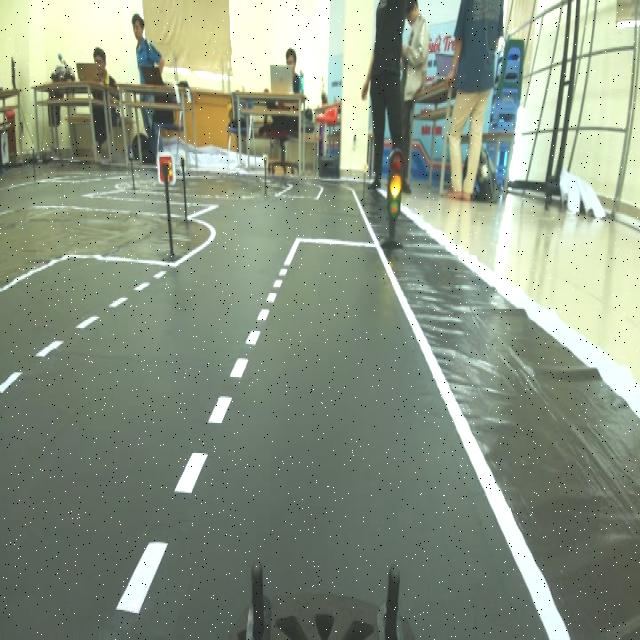trafficlight: (373, 142, 412, 259)
